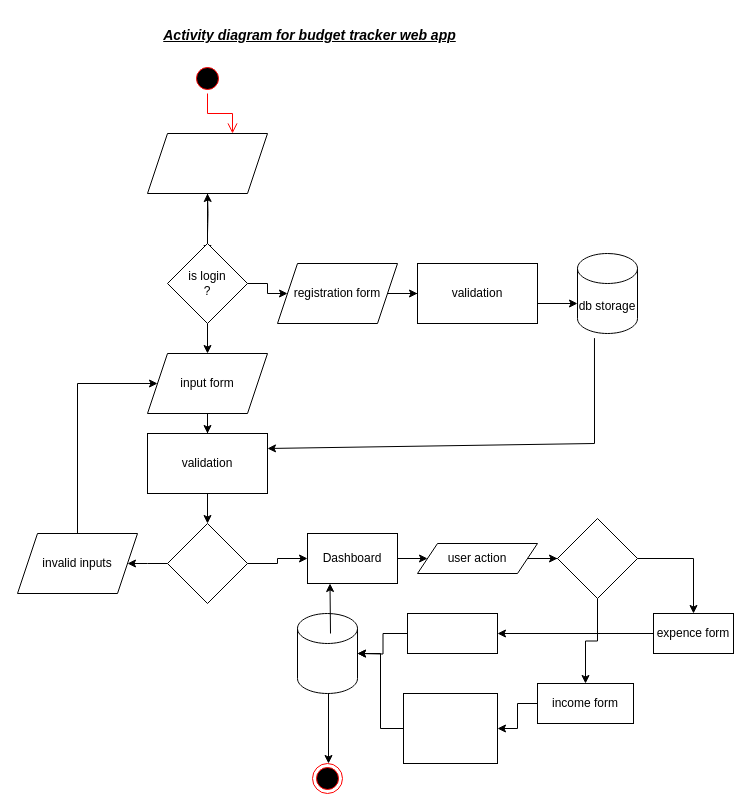
This 751x811 diagram has some shape labels left out. Each missing label, with the centre of its shape:
db: the point at 327,653
is expence ?: the point at 597,558
is user valid ?: the point at 207,563
login /registration: the point at 207,163
validating decreasing from total incomes: the point at 452,633
validating increasing incomes: the point at 450,728
